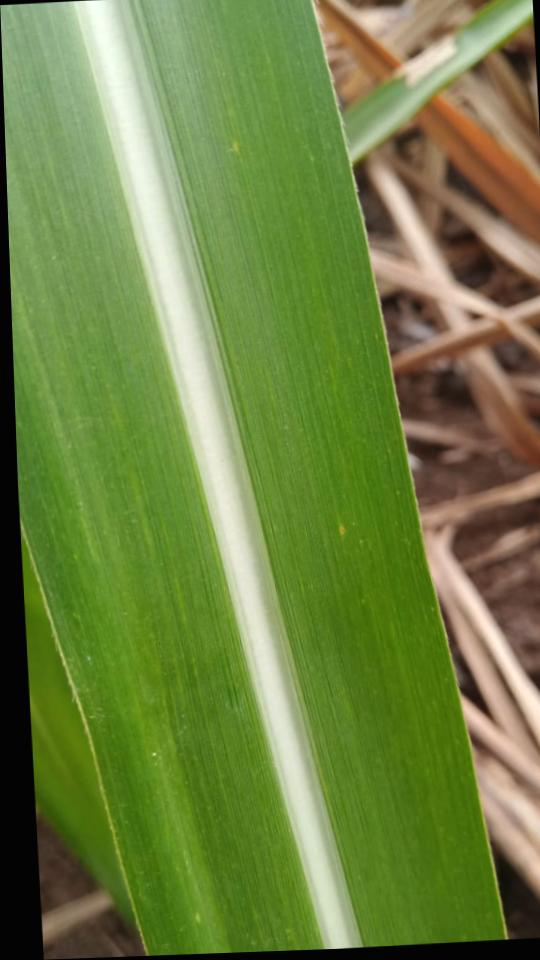Healthy: (0, 0, 508, 956)
